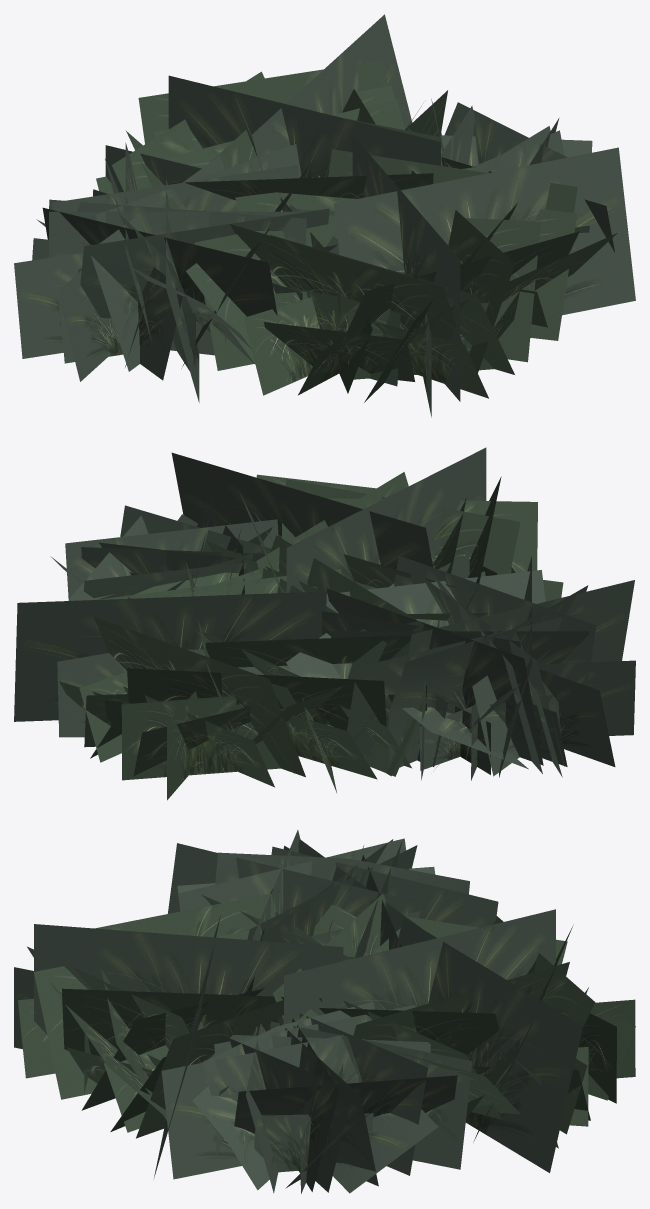
File: grass_01.FBX
3 views of the same model, one above another, from view 1: azimuth 30°, elevation 25°; view 2: azimuth 150°, elevation 25°; view 3: azimuth 270°, elevation 25° (orthographic).
Visible parts, largest first — view 1: grass_01; view 2: grass_01; view 3: grass_01.
Boxes of the visible parts, x1,y1,x2,y2 form: grass_01: (14, 14, 635, 417); grass_01: (14, 447, 635, 800); grass_01: (14, 830, 635, 1193).
Size of the model in its own units: 152 by 36.81 by 143.
